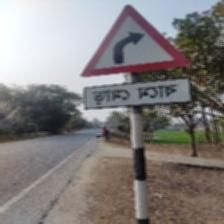Left-Turn: (79, 2, 193, 112)
